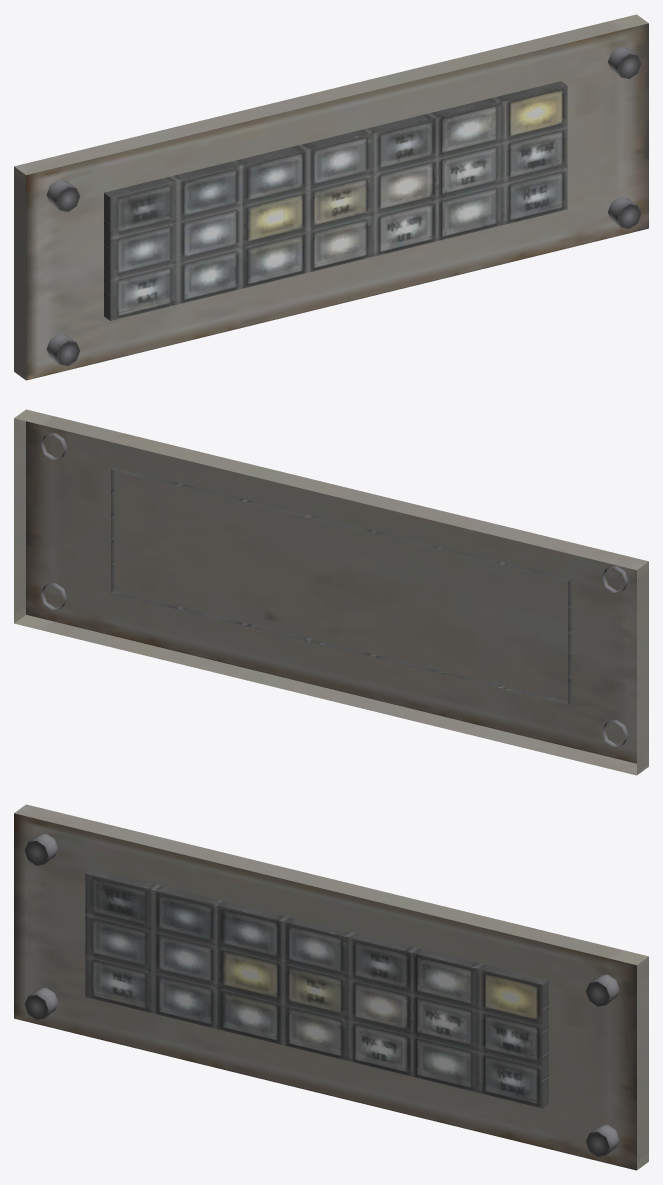
The model's file is ny_harbor_slava_interior_props_console_06_lod0.glb.
3 views of the same model, one above another, from view 1: azimuth 30°, elevation 25°; view 2: azimuth 150°, elevation 25°; view 3: azimuth 330°, elevation 25° (orthographic).
Visible parts, largest first — view 1: surf0; view 2: surf0; view 3: surf0.
Part boxes in pixels (box(x1,y1,x2,y2)): surf0: box(14, 14, 648, 380); surf0: box(14, 409, 648, 775); surf0: box(14, 804, 648, 1170).
Size of the model in its own units: 17.91 by 5.64 by 1.09.
